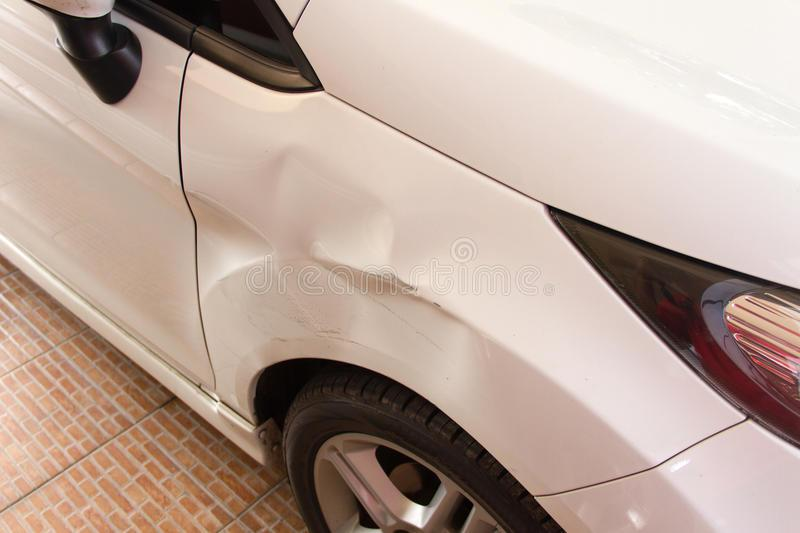fender-dent: (191, 153, 517, 519)
